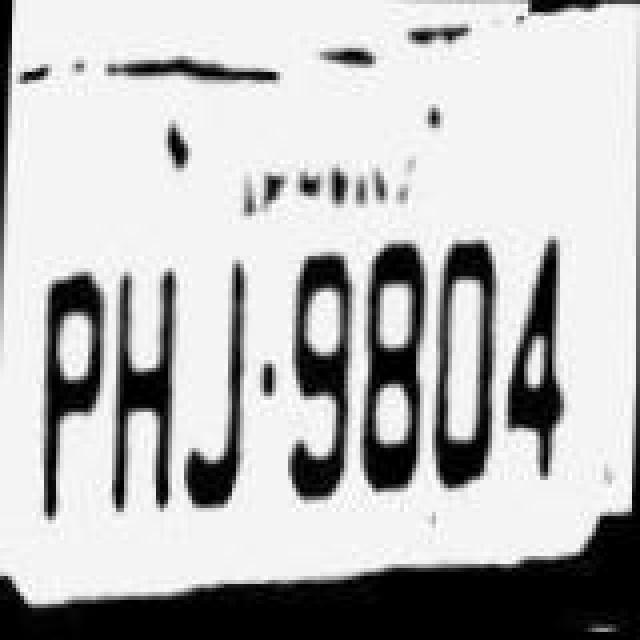4: (500, 228, 580, 496)
8: (354, 234, 430, 514)
9: (282, 244, 358, 516)
H: (104, 258, 184, 518)
J: (180, 248, 260, 516)
O: (424, 226, 504, 494)
P: (24, 260, 112, 532)
